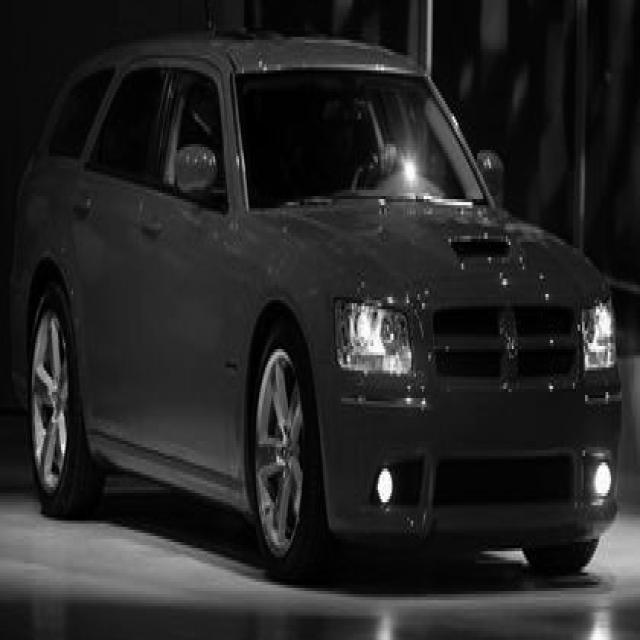car: (8, 21, 623, 582)
